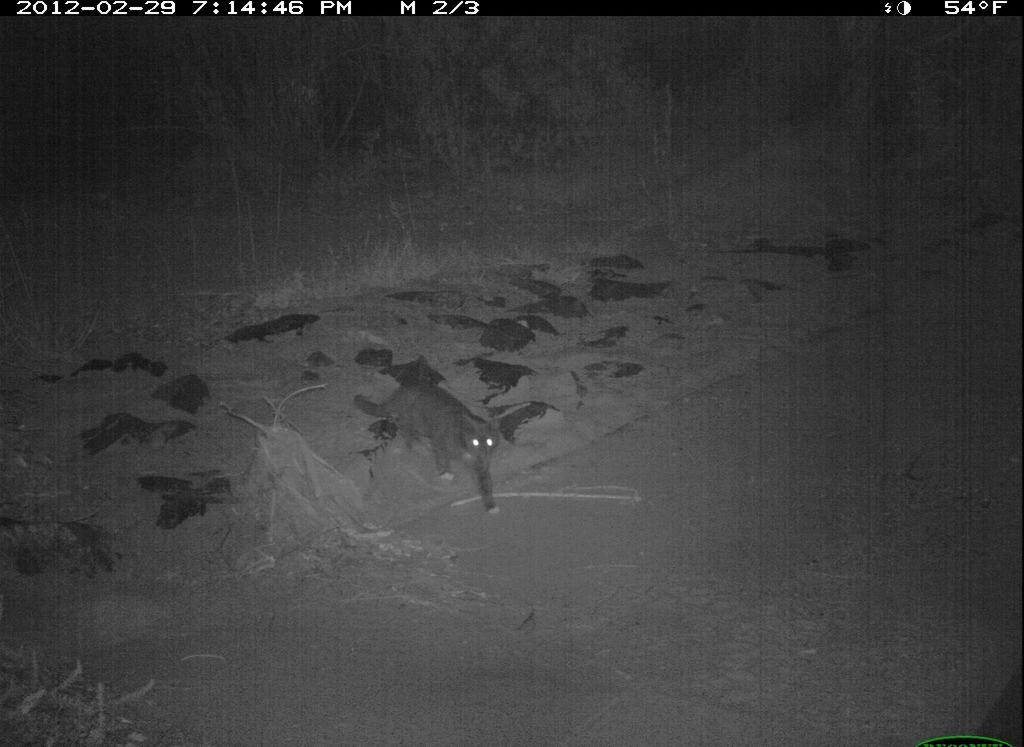cat: (345, 376, 515, 519)
